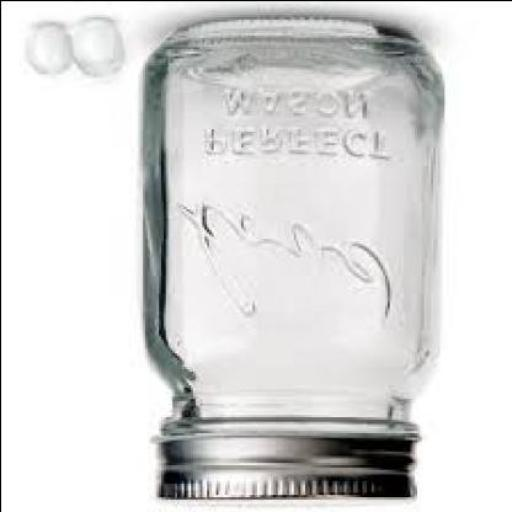glass: (139, 18, 437, 441)
metal: (153, 425, 412, 503)
